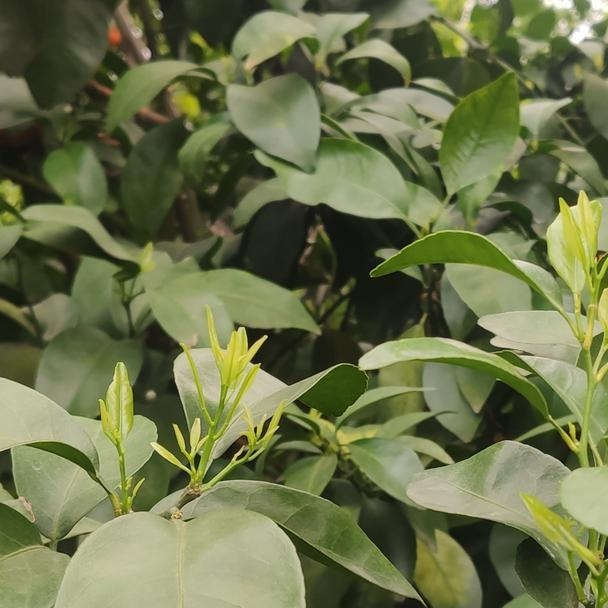shoot: (179, 319, 268, 438), (556, 191, 608, 313), (95, 357, 149, 445)
